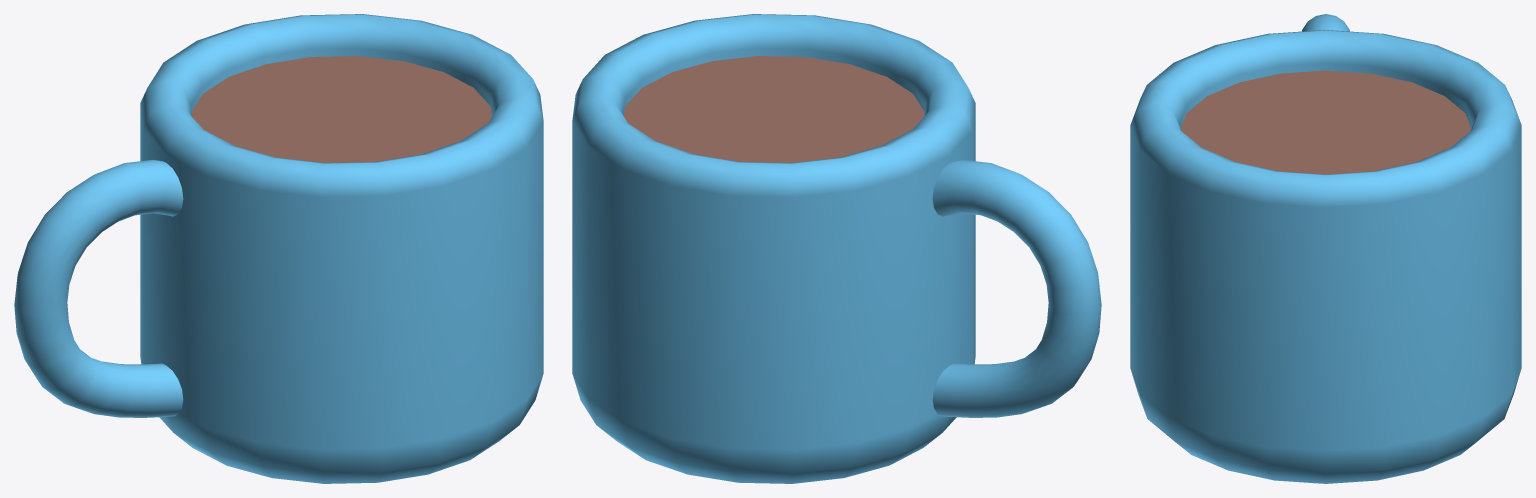
The model's file is Store_18_Cup_3.glb.
3 renders of one model, left to right at view 1: azimuth 30°, elevation 25°; view 2: azimuth 150°, elevation 25°; view 3: azimuth 270°, elevation 25°, orthographic. The views are drawn at different scales.
Parts seen in each view (by area): view 1: Store_18_Cup_3; view 2: Store_18_Cup_3; view 3: Store_18_Cup_3.
Part boxes in pixels (x1=…): Store_18_Cup_3: x1=14, y1=14, x2=543, y2=483; Store_18_Cup_3: x1=572, y1=14, x2=1101, y2=483; Store_18_Cup_3: x1=1130, y1=14, x2=1521, y2=483.
Size of the model in its own units: 0.2701 by 0.17 by 0.1898.
Materials: 1 (1 with a texture image).
